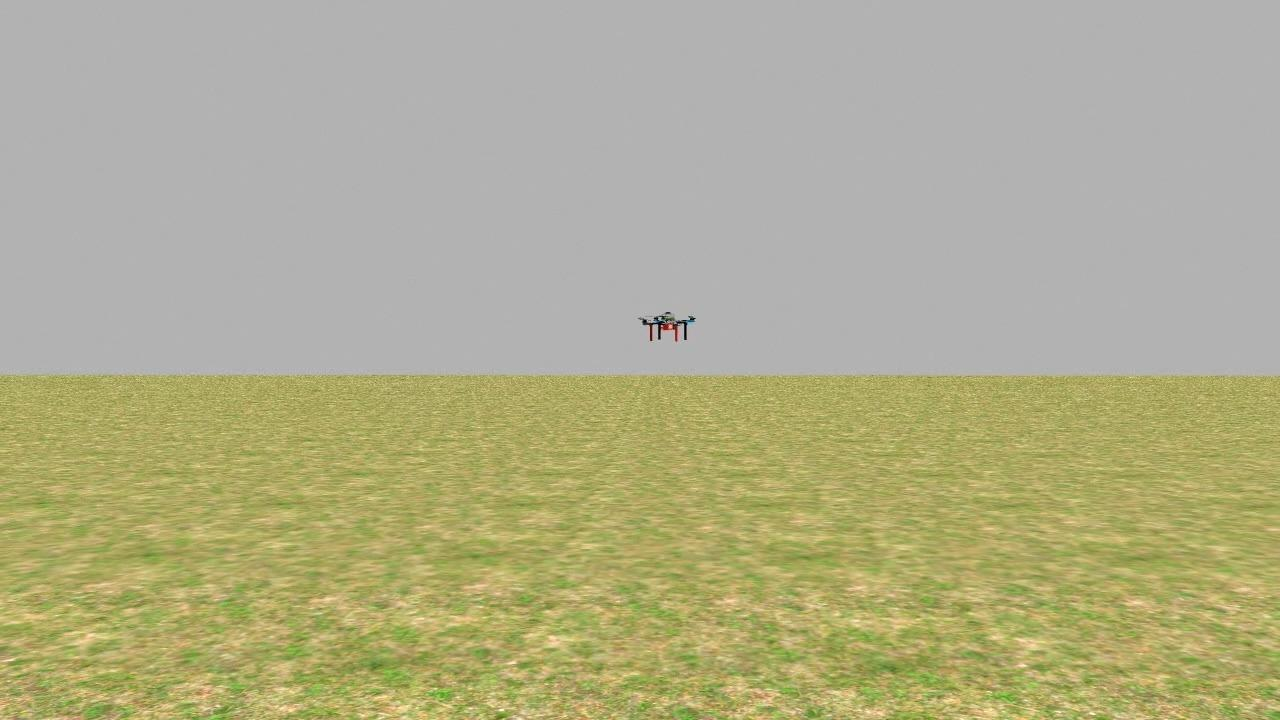UAV: (634, 298, 699, 346)
